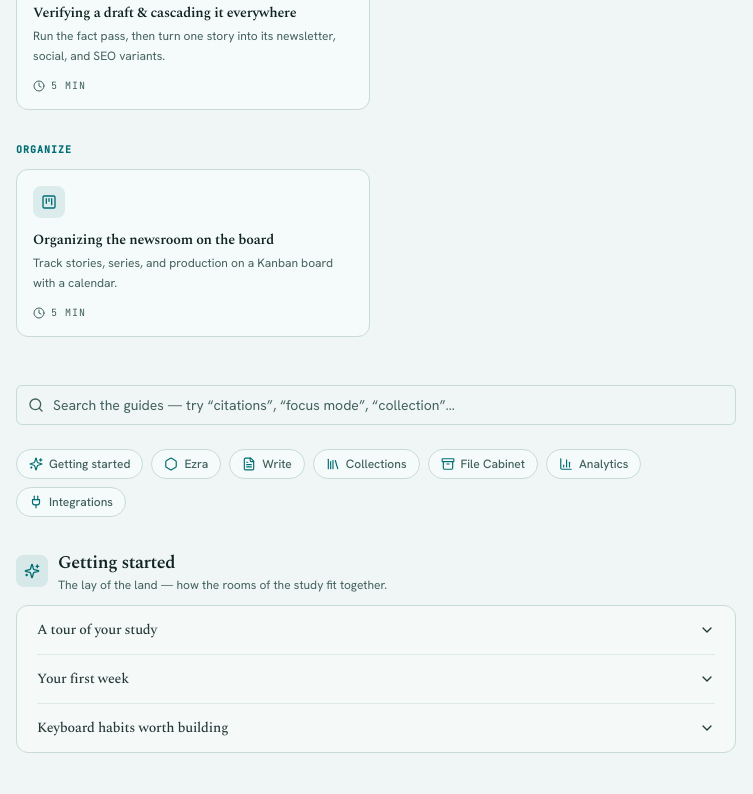
Help page › shows an empty state for a query with no matches
(page scrolled)
Replace the text in the field named "Search help guides" with "zzzz-no-match" at (376, 405), box [16,385,736,425]
(page scrolled)
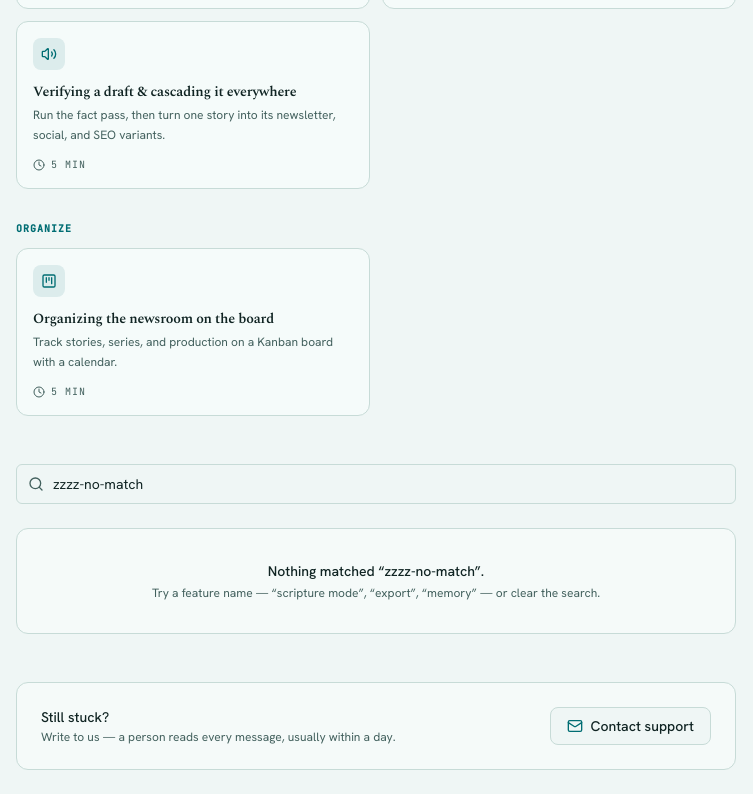
Result: the text "Nothing matched “zzzz-no-match”." is shown at [268,562,484,580]
